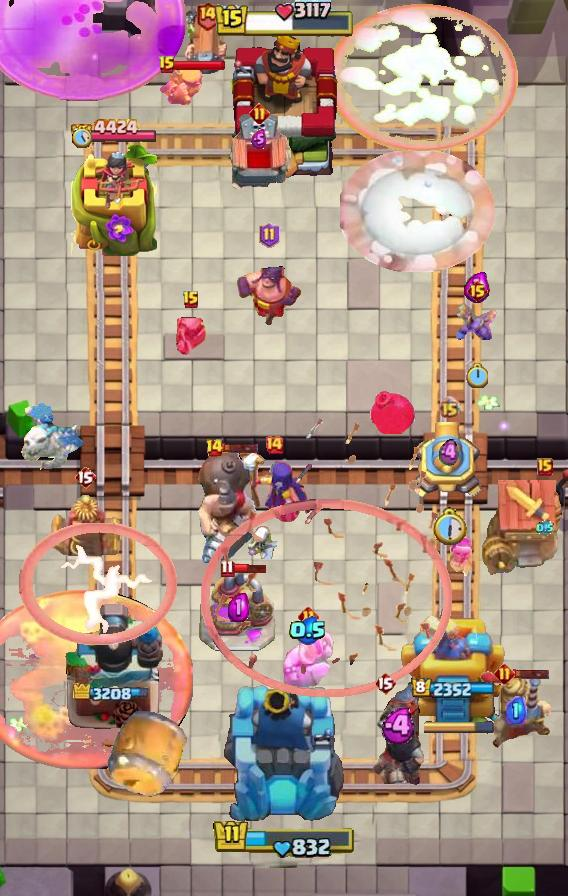arrows: (159, 64, 205, 107)
axe: (236, 449, 312, 523)
baby-dragon: (370, 389, 416, 434)
bar: (401, 601, 505, 731)
barbarian-evolution: (19, 523, 177, 645)
battle-healer: (183, 0, 231, 82)
battle-ram: (173, 314, 209, 358)
clock: (212, 818, 356, 860), (213, 0, 355, 40)
dirt: (105, 707, 189, 801)
electro-spirit: (381, 708, 419, 744), (289, 616, 327, 644), (464, 269, 490, 302), (227, 593, 248, 622), (439, 438, 459, 468), (506, 696, 527, 724), (251, 129, 267, 149), (536, 520, 554, 536)
elixir: (431, 507, 467, 546), (466, 364, 488, 389), (72, 126, 92, 148)
elixir-golem-mid: (224, 112, 294, 198)
emote: (174, 59, 226, 71), (221, 442, 258, 454), (514, 668, 551, 680), (232, 563, 268, 574)
goblin: (449, 535, 473, 579)
goblin-brawler: (50, 491, 120, 559)
goblin-giant: (281, 631, 335, 689)
heal-spirit: (247, 525, 285, 559)
inferno-dragon: (370, 681, 430, 787)
king-tower: (222, 31, 346, 181), (221, 682, 347, 826)
king-tower-bar: (424, 721, 494, 735)
knight-evolution: (0, 0, 184, 100)
mini-pekka: (20, 402, 88, 476)
monk: (236, 250, 302, 328)
pekka: (199, 571, 277, 653)
phoenix-big: (325, 3, 519, 154)
phoenix-egg: (0, 591, 192, 770)
queen-tower: (71, 144, 157, 255)
ram-rider: (477, 671, 555, 751)
royal-delivery: (455, 302, 499, 348)
royal-recruit: (411, 422, 487, 502)
selected: (70, 117, 158, 146), (411, 678, 495, 700), (73, 683, 155, 705)
skeleton-barrel: (200, 417, 453, 697)
sparky: (482, 479, 568, 577)
text: (195, 0, 220, 31), (466, 279, 489, 303), (438, 396, 461, 420), (259, 222, 280, 248), (74, 465, 96, 489), (374, 671, 396, 695), (493, 663, 515, 685), (249, 103, 270, 125), (297, 605, 318, 627), (264, 435, 284, 455), (205, 438, 224, 458), (158, 55, 176, 75), (182, 290, 200, 310), (537, 458, 553, 476), (220, 559, 235, 578)
tower-bar: (64, 601, 164, 731)
wall-breaker: (340, 151, 495, 273)
wizard: (194, 448, 258, 566)
